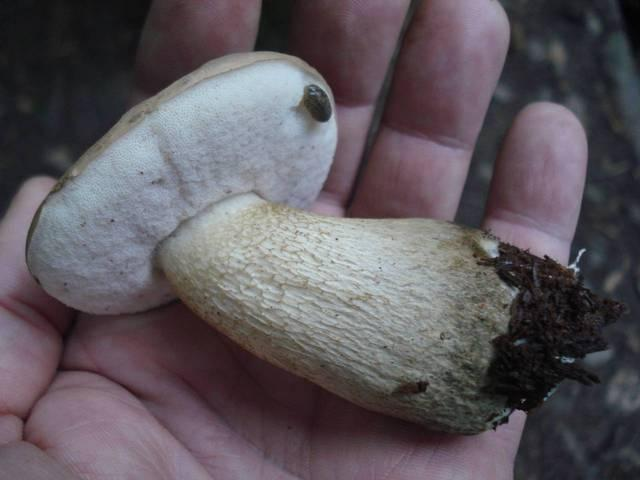poisonous_mushroom: (23, 48, 625, 436), (23, 48, 339, 316)
